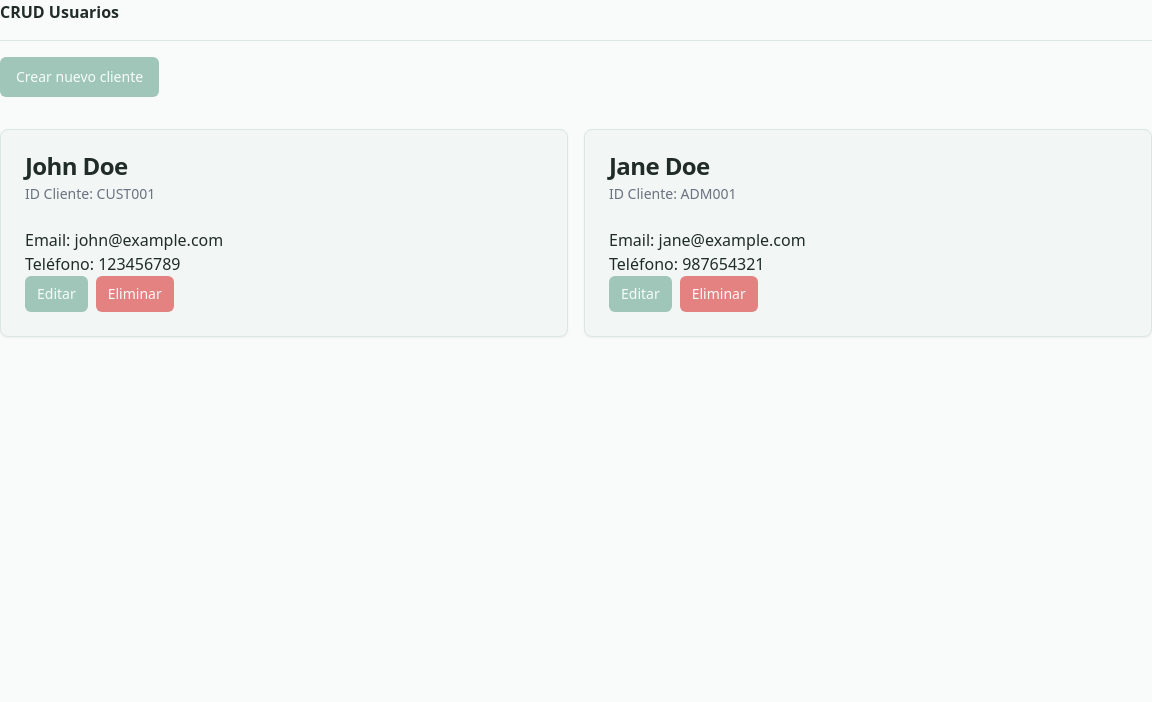
UsersSection Component › toggles create user form
Expected: the heading "John Doe" is shown, [25,149,128,182]
Step 1. Click the button "Crear nuevo cliente" → (80, 77), box [0,57,159,97]
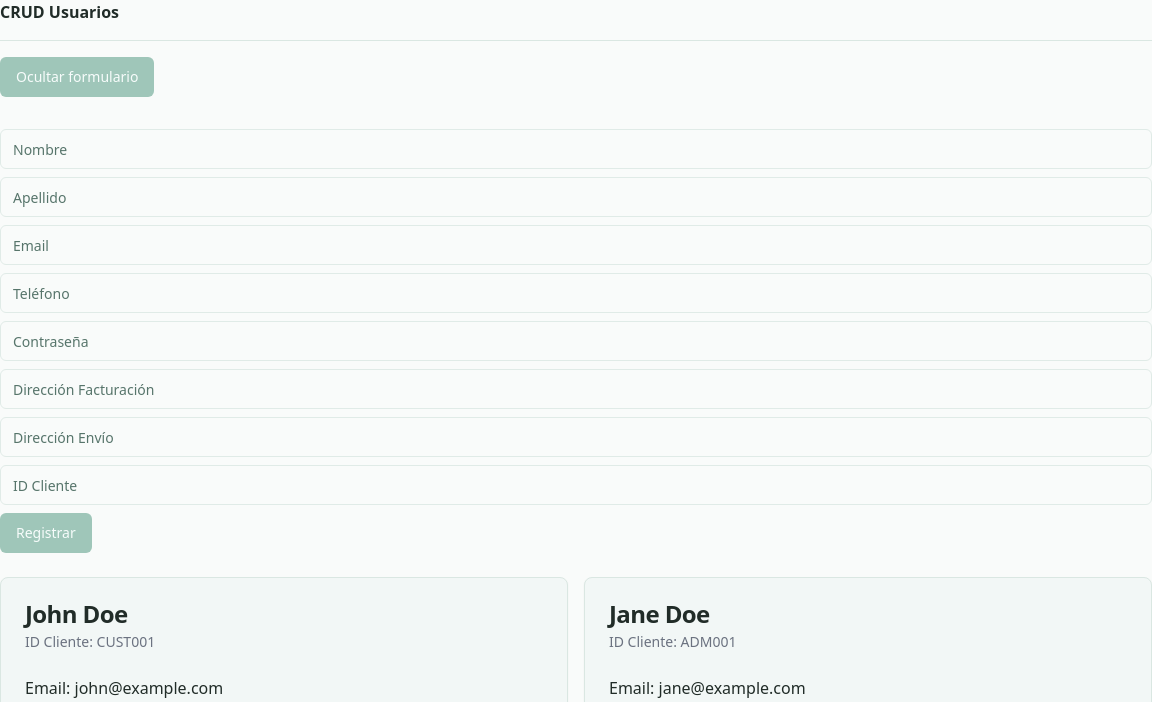
Now the field with placeholder "Nombre" is shown, box [0,129,1151,169]
Now the field with placeholder "Apellido" is shown, box [0,177,1151,217]
Now the button "Ocultar formulario" is shown
Step 2. Click the button "Ocultar formulario" → (77, 77), box [0,57,154,97]
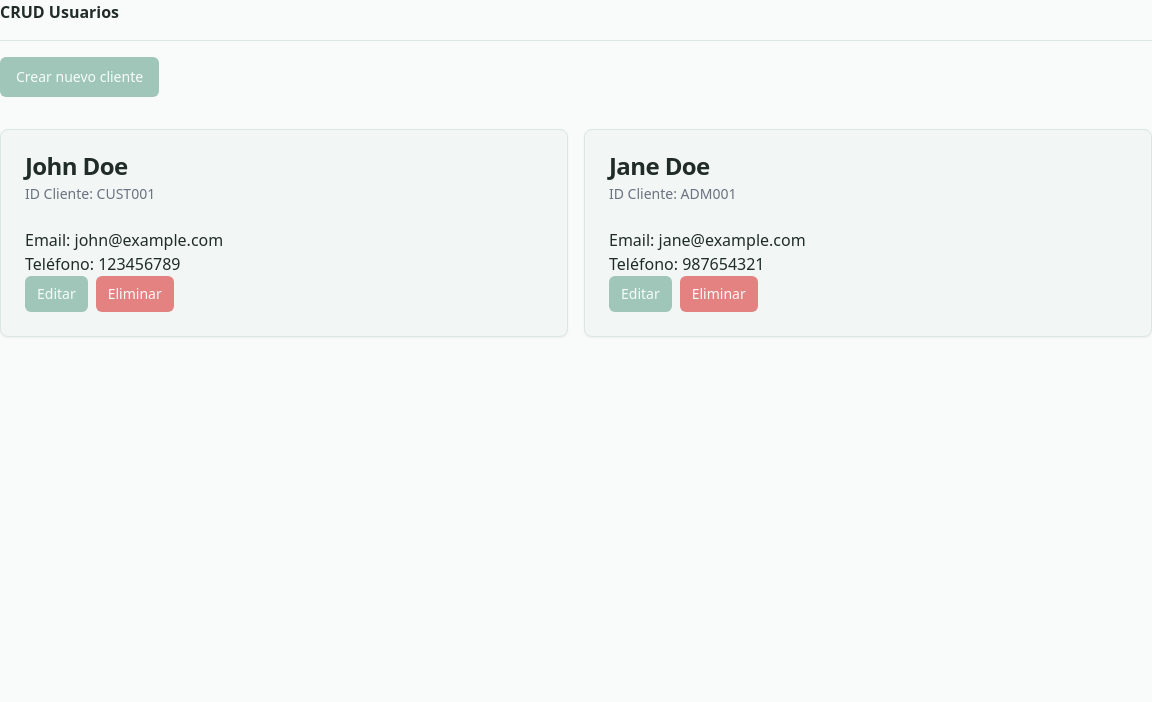
Now the field with placeholder "Nombre" is gone
